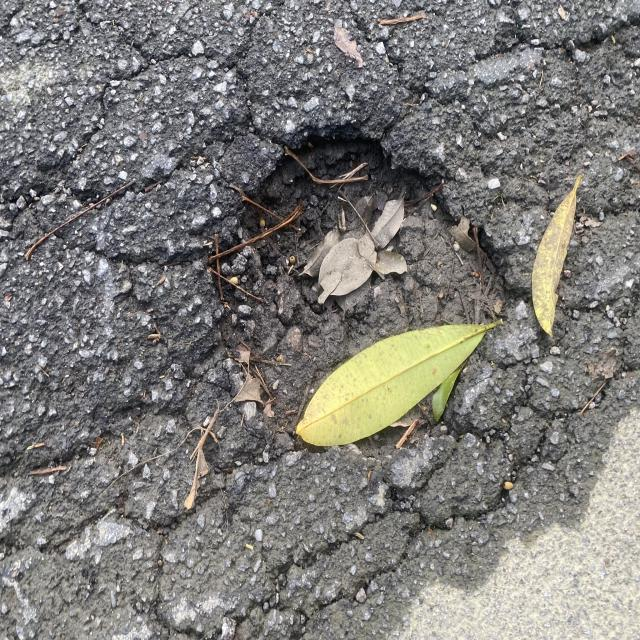pothole: (174, 83, 555, 500)
